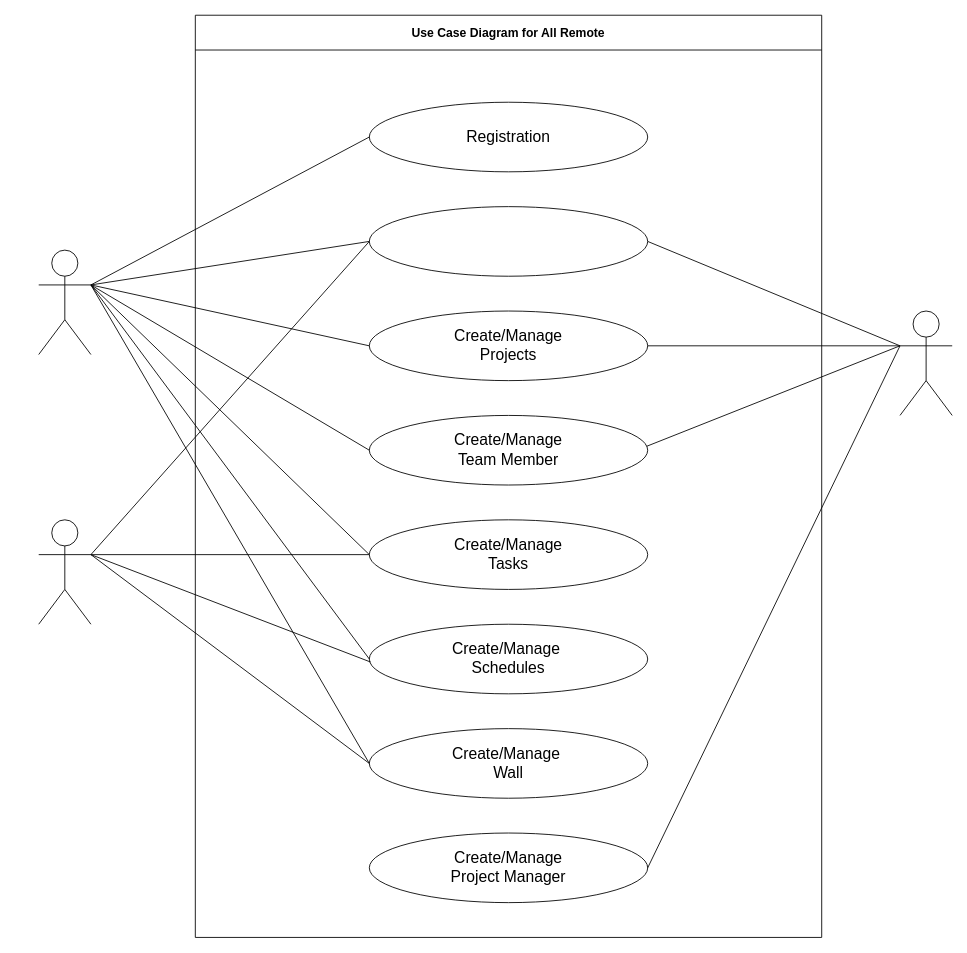
This 967x953 diagram has some shape labels left out. The shapes that lost their labels are listed below. From the top down, each one's centre as x and y in pixels, then its label:
the point at 508,241: Login
the point at 64,302: Project Manager
the point at 925,362: Admin
the point at 64,571: Team Member
